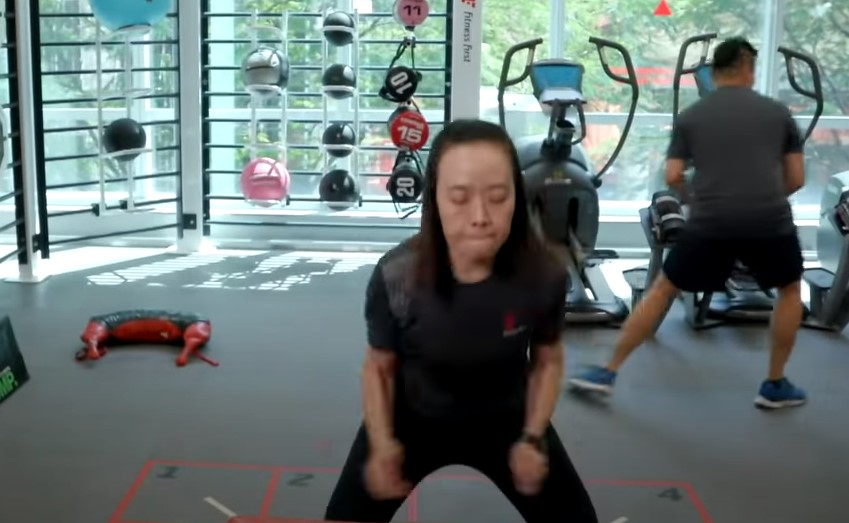face_no_mask: (431, 130, 519, 259)
